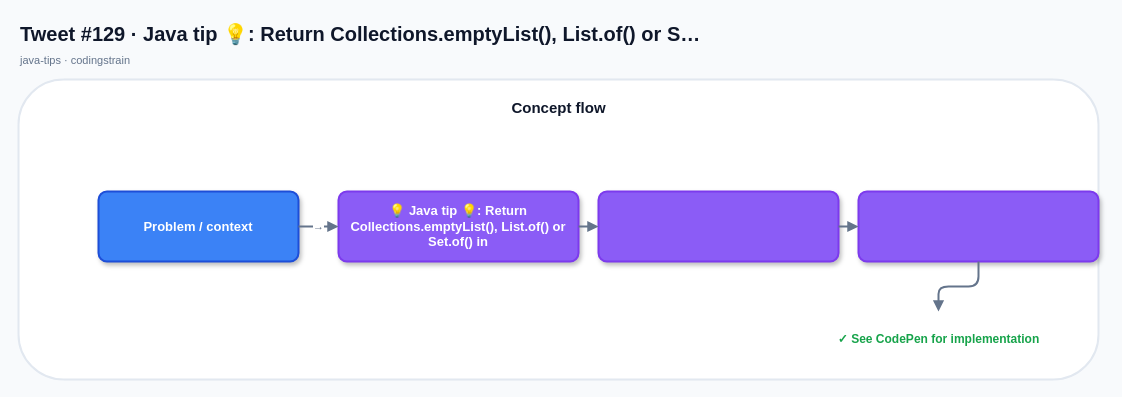
This 1122x397 diagram has some shape labels left out. The shapes that lost their labels are listed below. From the top down, each one's centre as x and y in pixels, then its label:
At pixel 719 227: "Runnable sample: `java-tips`".
At pixel 979 227: "Architecture diagram + Carbon CodePen below".
